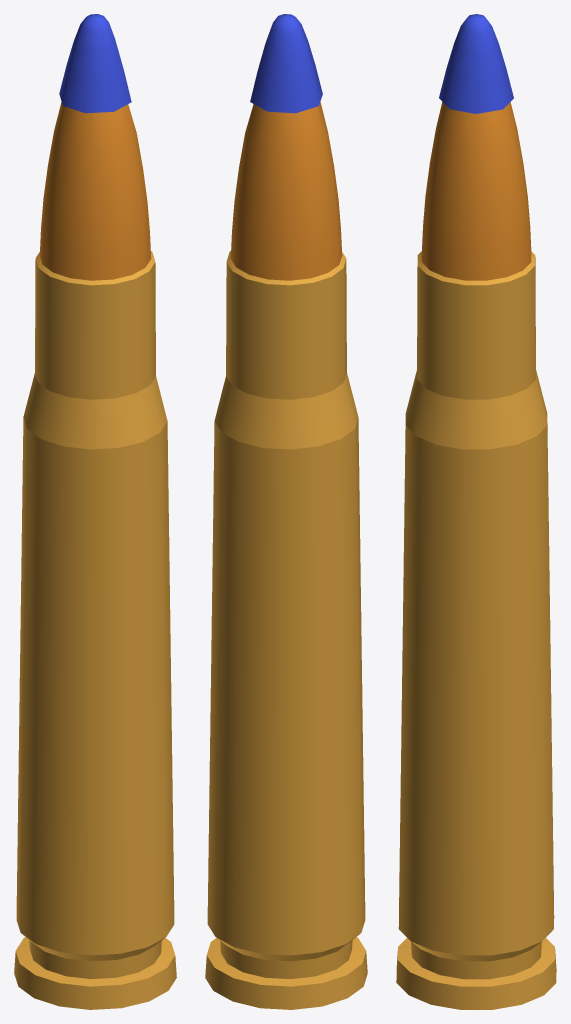
Rendered from ammo7-food.fbx.
The picture shows the model from 3 angles, left to right: view 1: azimuth 30°, elevation 25°; view 2: azimuth 150°, elevation 25°; view 3: azimuth 270°, elevation 25°; orthographic projection.
Parts seen in each view (by area): view 1: ammo7-food; view 2: ammo7-food; view 3: ammo7-food.
Part boxes in pixels (left/top/right/bottom): ammo7-food: left=14, top=14, right=176, bottom=1009; ammo7-food: left=205, top=14, right=367, bottom=1009; ammo7-food: left=396, top=14, right=556, bottom=1009.
Bounding box in the file's own units: 0.0124 × 0.0823 × 0.0124.
